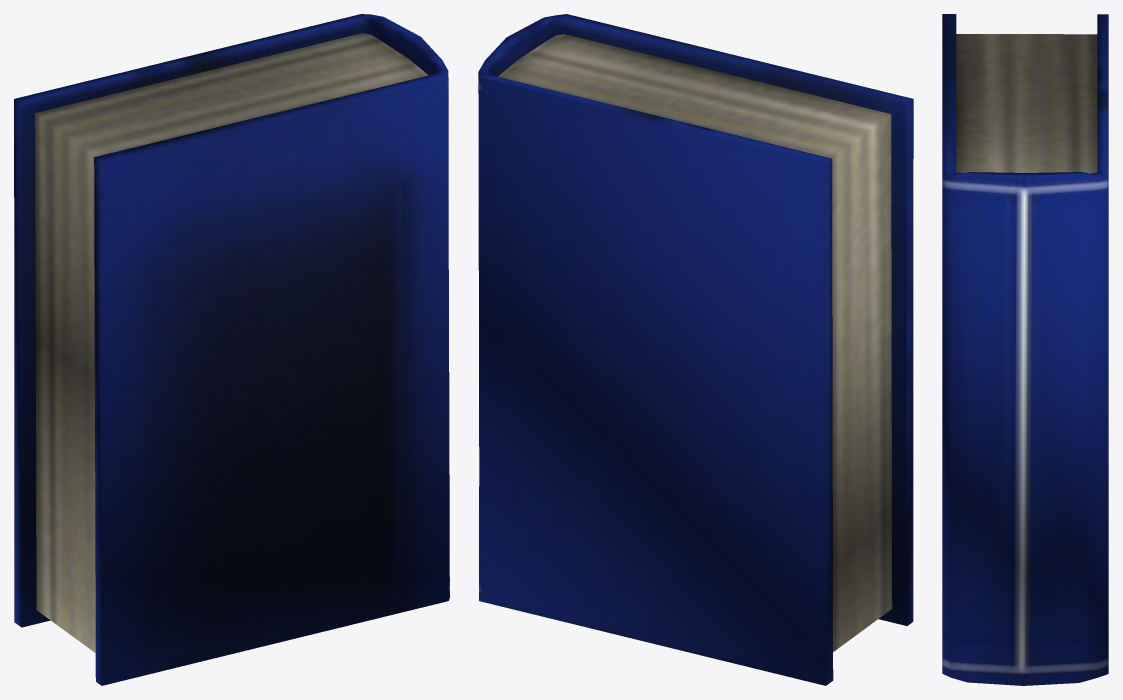
File: frl_apartment_book_06.glb
3 renders of one model, left to right at view 1: azimuth 30°, elevation 25°; view 2: azimuth 150°, elevation 25°; view 3: azimuth 270°, elevation 25°, orthographic. The views are drawn at different scales.
Parts seen in each view (by area): view 1: frl_apartment_book_06; view 2: frl_apartment_book_06; view 3: frl_apartment_book_06.
Part boxes in pixels (x1,y1,x2,y2): frl_apartment_book_06: (14, 14, 449, 685); frl_apartment_book_06: (478, 14, 913, 685); frl_apartment_book_06: (942, 14, 1108, 685).
Bounding box in the file's own units: 0.1898 × 0.2663 × 0.0789.
Materials: 1 (1 with a texture image).
